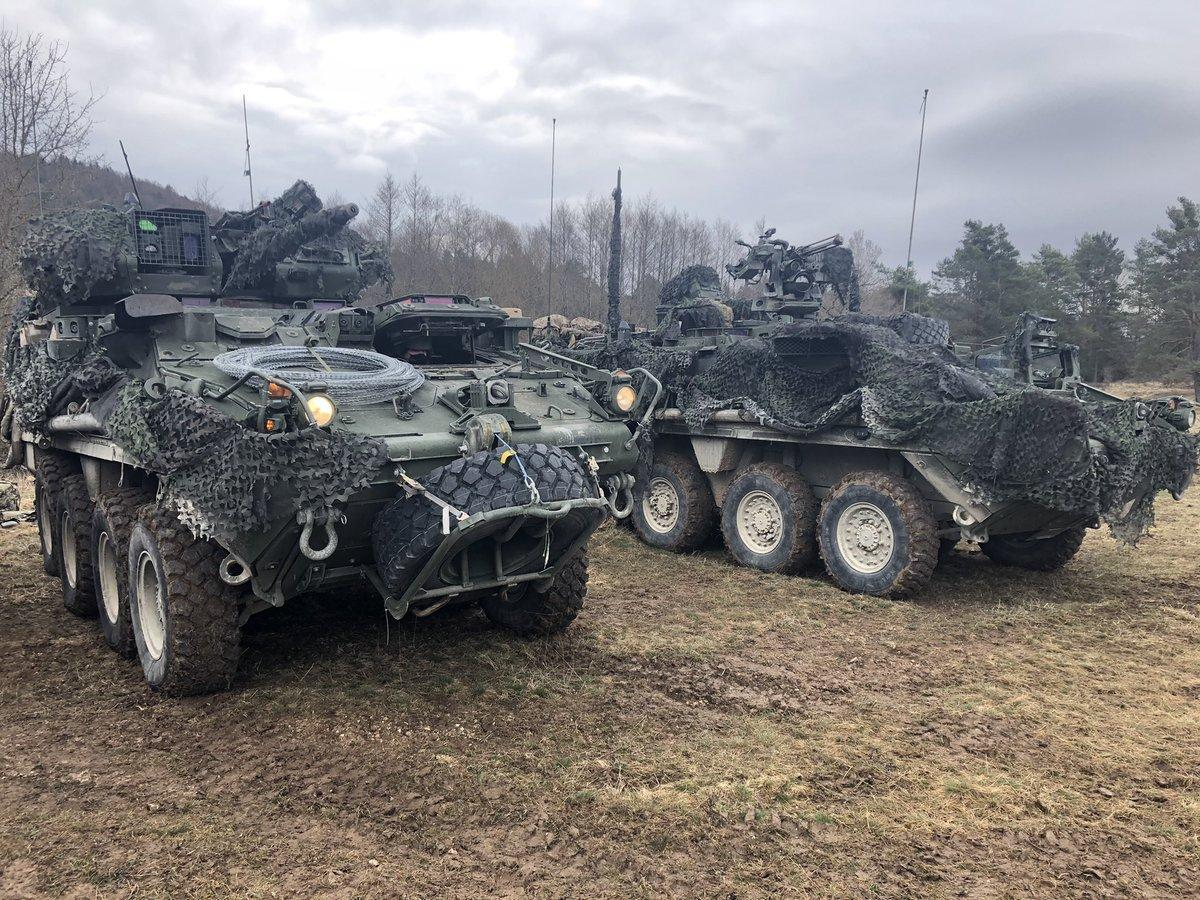tank: (0, 178, 643, 700), (532, 228, 1200, 600)
